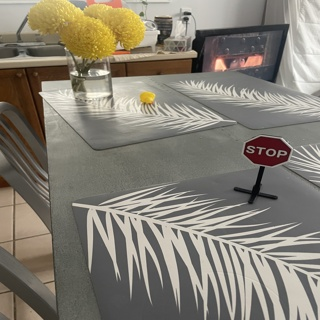sign_stop: (243, 129, 288, 167)
